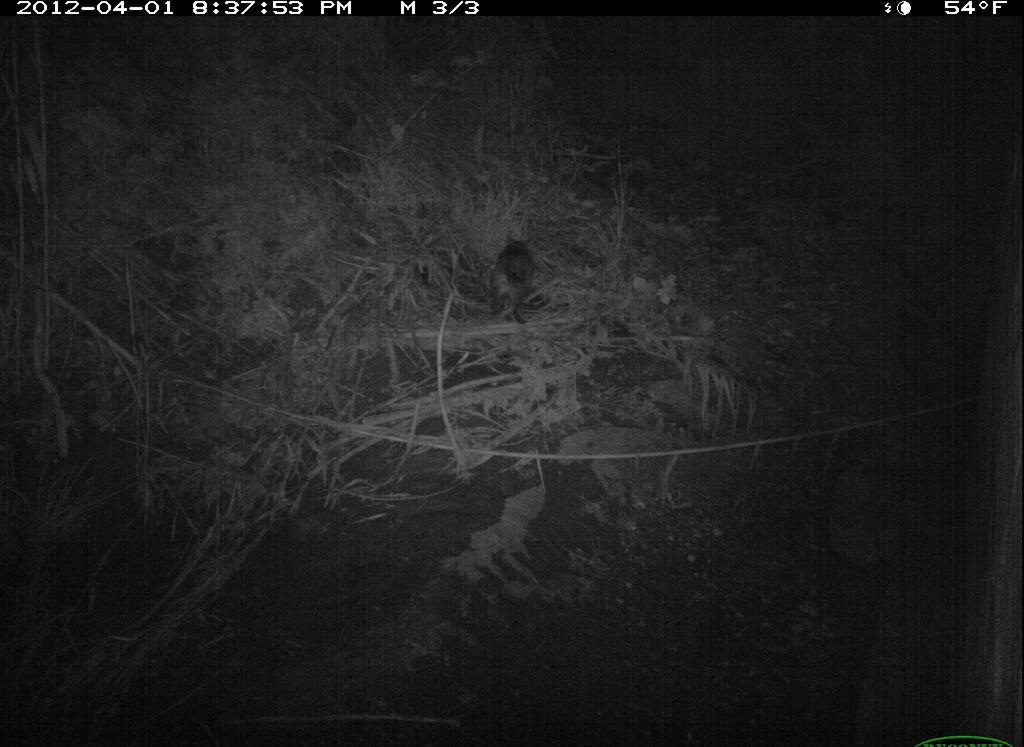cat: (487, 236, 541, 333)
